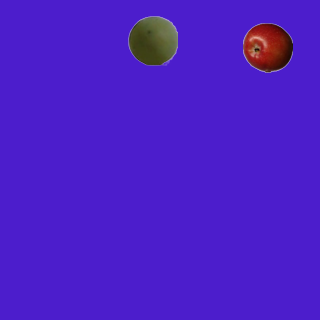Apple Braeburn: (242, 22, 292, 72)
Grape White 4: (127, 15, 177, 65)
